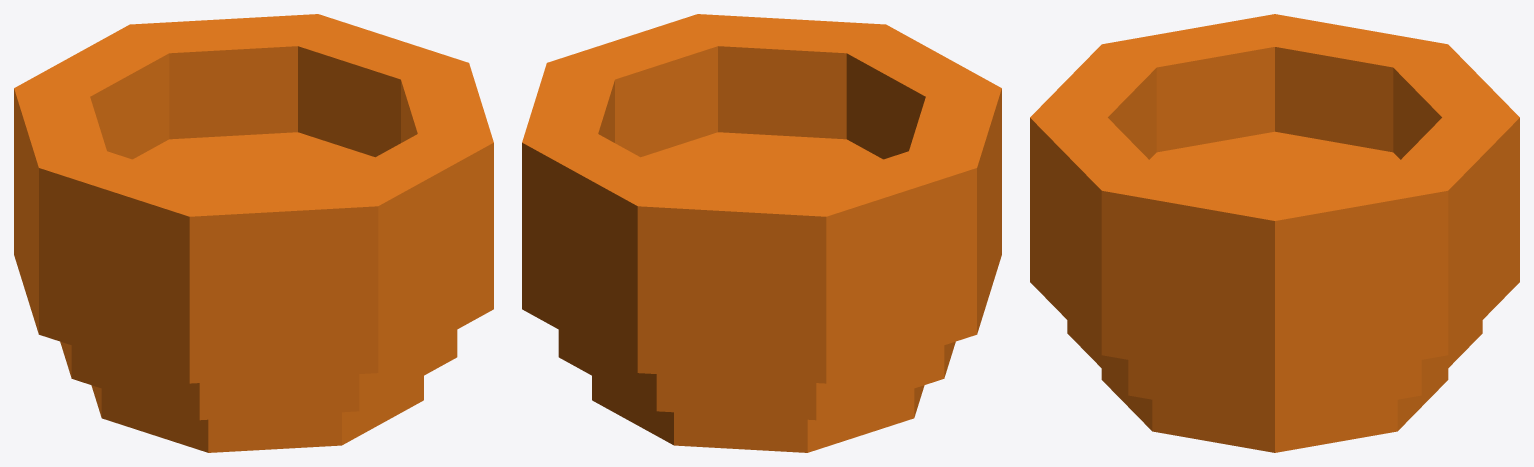
File: Pipe 5.fbx
The picture shows the model from 3 angles, left to right: view 1: azimuth 30°, elevation 25°; view 2: azimuth 150°, elevation 25°; view 3: azimuth 270°, elevation 25°; orthographic projection.
Parts seen in each view (by area): view 1: Cylinder.019; view 2: Cylinder.019; view 3: Cylinder.019.
Part boxes in pixels (bbox=[...]): Cylinder.019: bbox=[14, 14, 493, 452]; Cylinder.019: bbox=[522, 14, 1001, 452]; Cylinder.019: bbox=[1030, 14, 1519, 452].
Size of the model in its own units: 0.1583 by 0.0935 by 0.1583.
